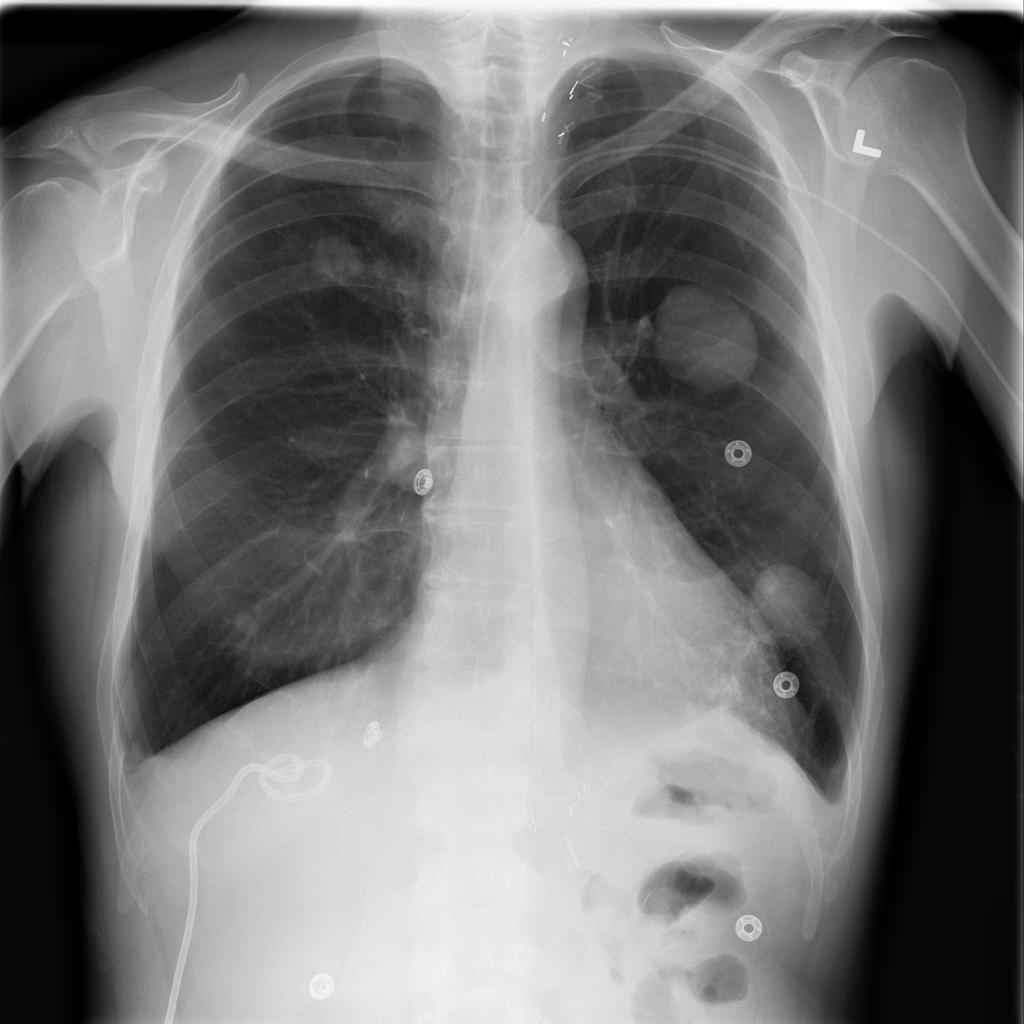nodule: (637, 273, 779, 407), (734, 541, 842, 662), (294, 221, 378, 295)
